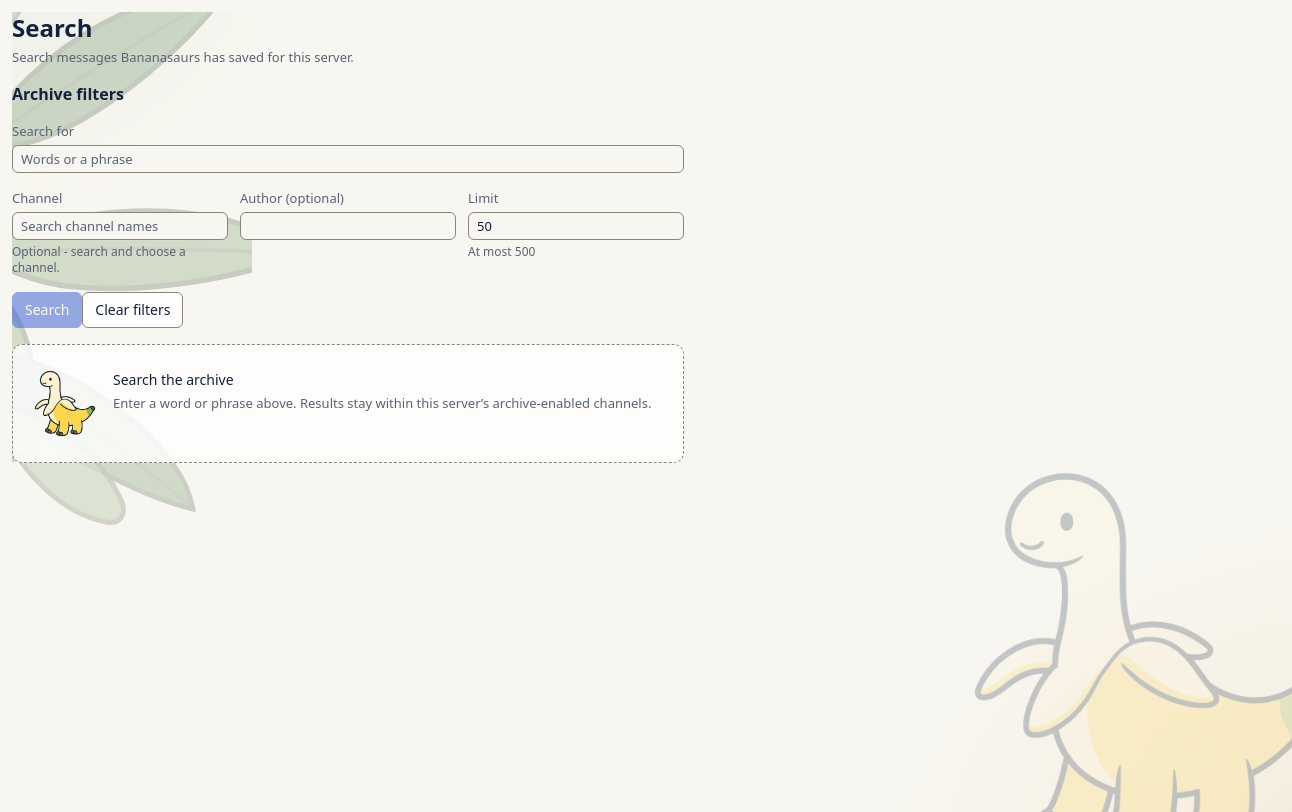
Test: SearchPage › says so when nothing matched
Type "zzz" into the field labelled "Search for" at (348, 159), box [12,145,684,173]
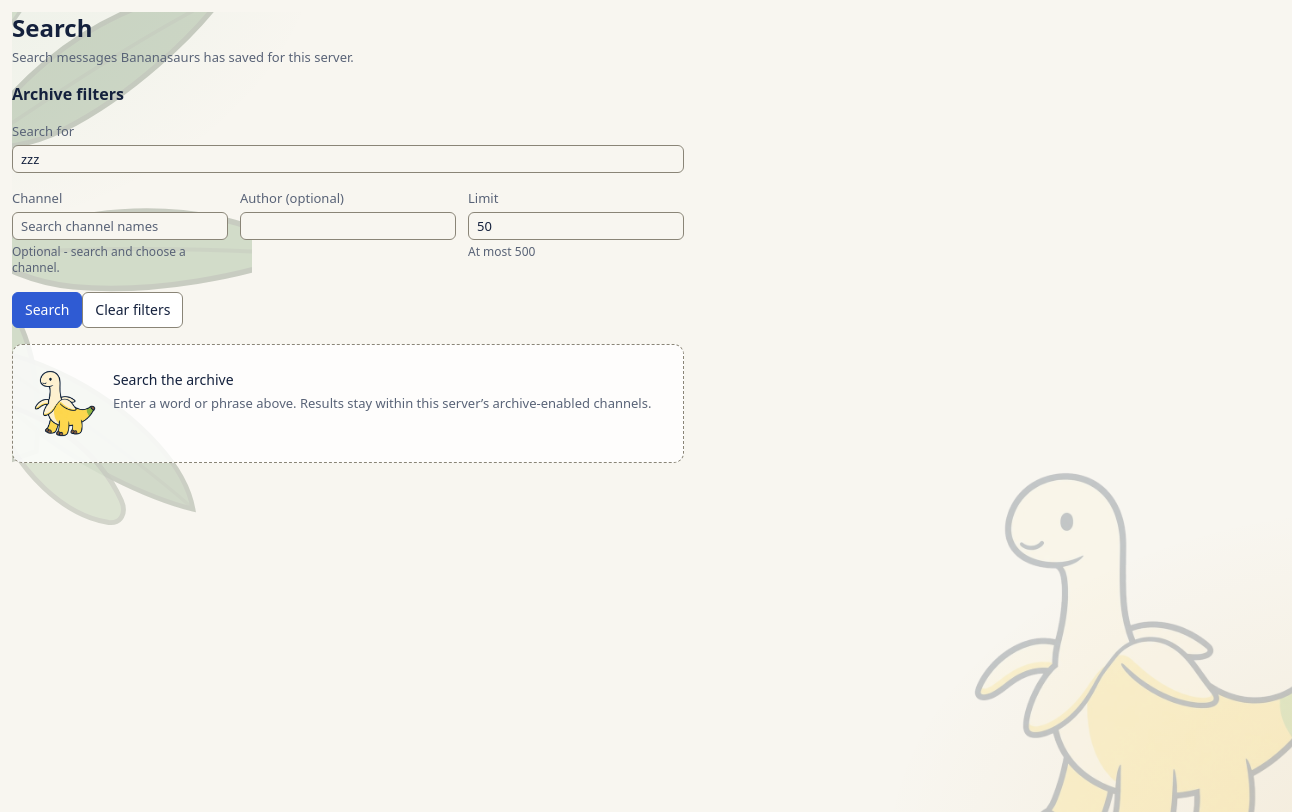
Click the button "Search" at (47, 310), box [12,292,82,328]
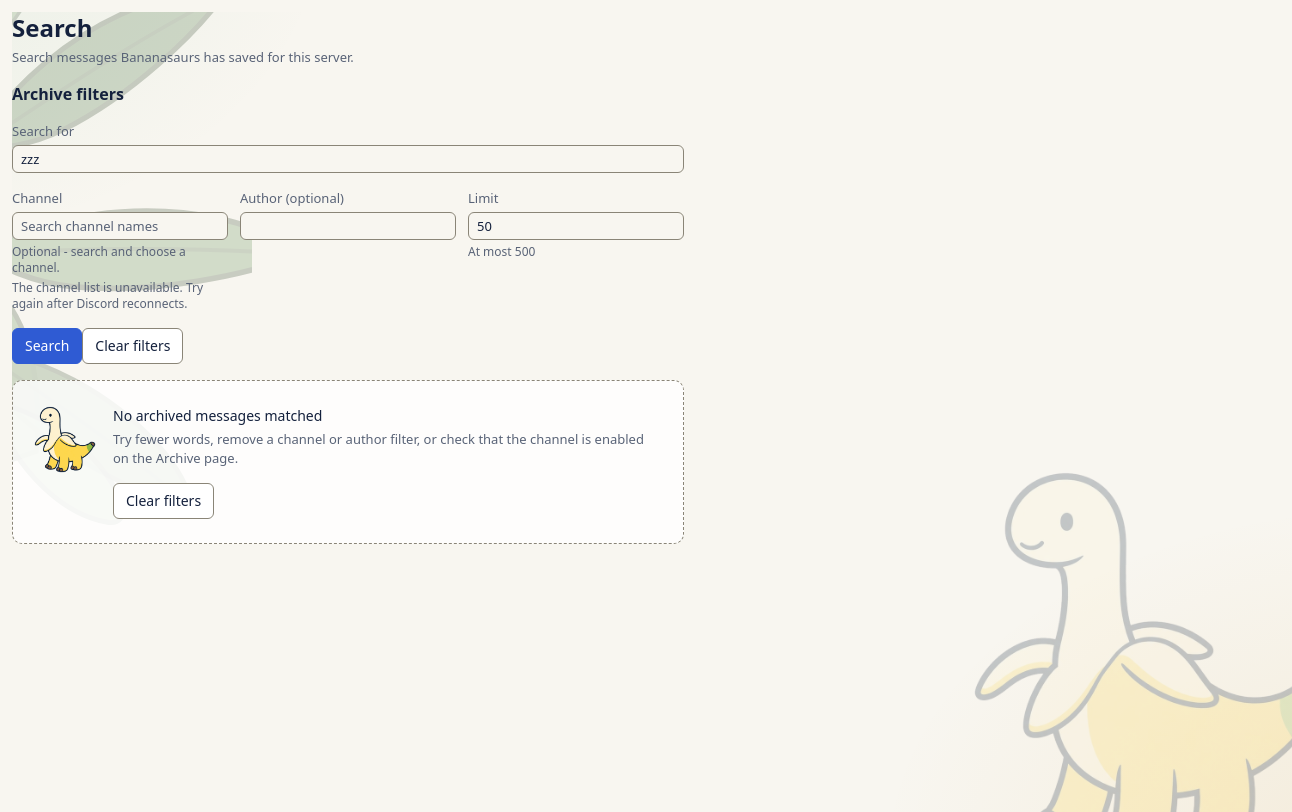
Expected: the element "No archived messages matched" is shown, [12,380,684,544]
